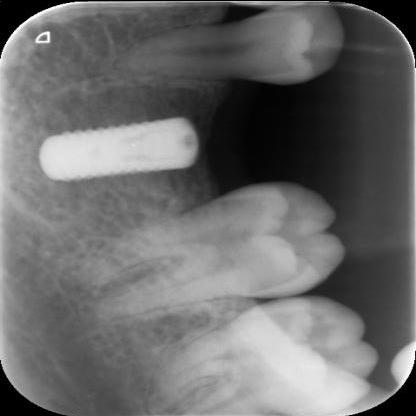ITI: (35, 110, 204, 183)
